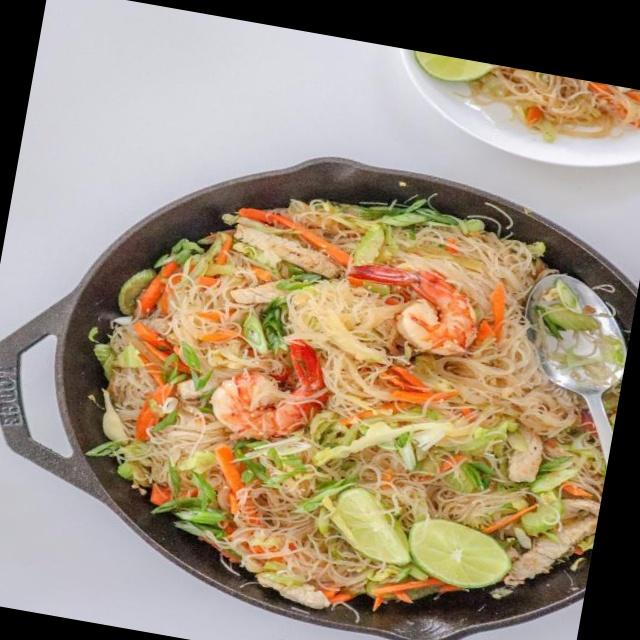pancit bihon: (91, 194, 619, 603)
